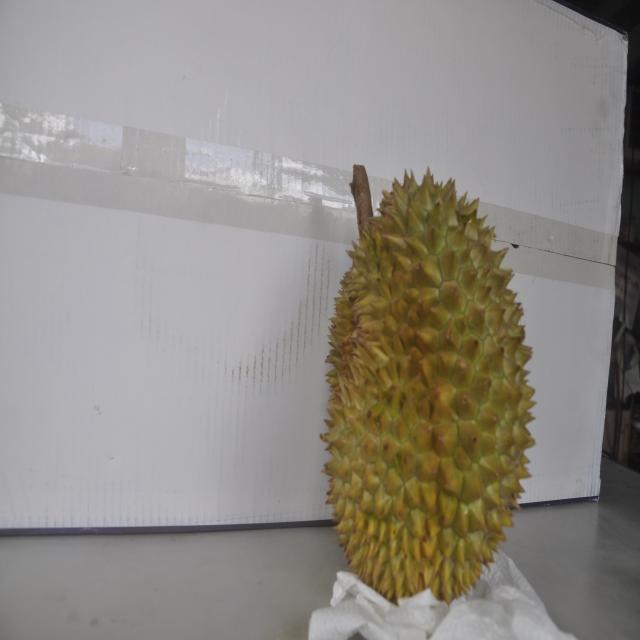mature: (322, 164, 537, 599)
